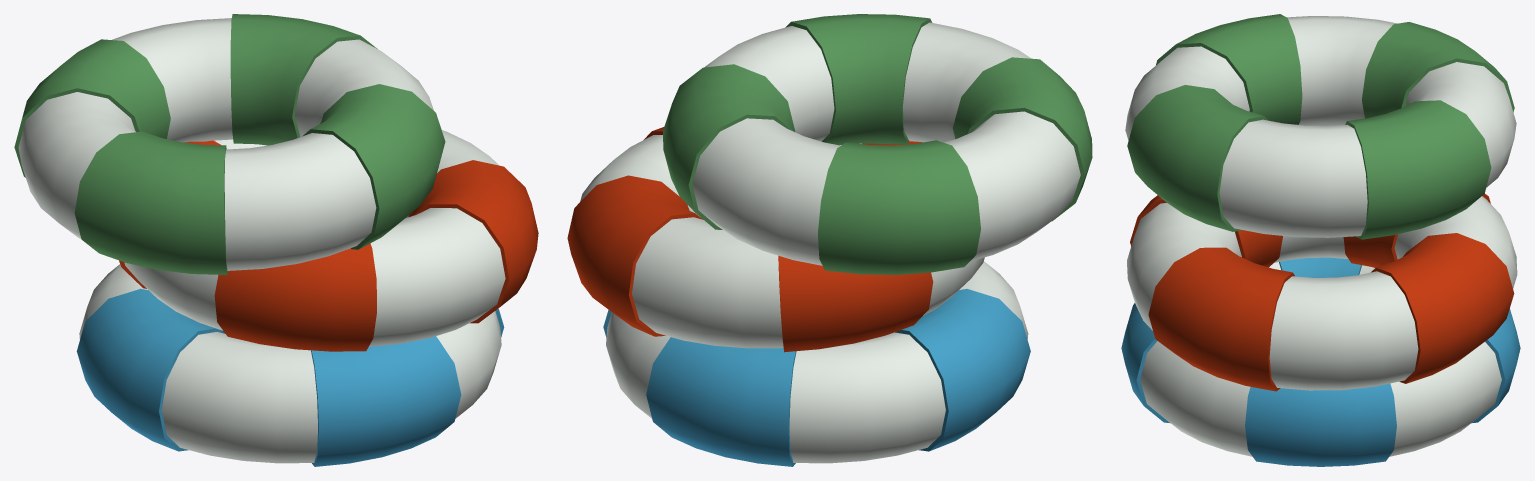
File: buoy-pack-01.glb
The picture shows the model from 3 angles, left to right: view 1: azimuth 30°, elevation 25°; view 2: azimuth 150°, elevation 25°; view 3: azimuth 270°, elevation 25°; orthographic projection. The views are drawn at different scales.
Parts seen in each view (by area): view 1: buoy_pack_01; view 2: buoy_pack_01; view 3: buoy_pack_01.
Boxes of the visible parts, x1=… form: buoy_pack_01: x1=14, y1=14, x2=538, y2=466; buoy_pack_01: x1=567, y1=14, x2=1092, y2=466; buoy_pack_01: x1=1121, y1=14, x2=1520, y2=466.
Size of the model in its own units: 1.25 by 0.8593 by 1.01.
Materials: 1 (1 with a texture image).
